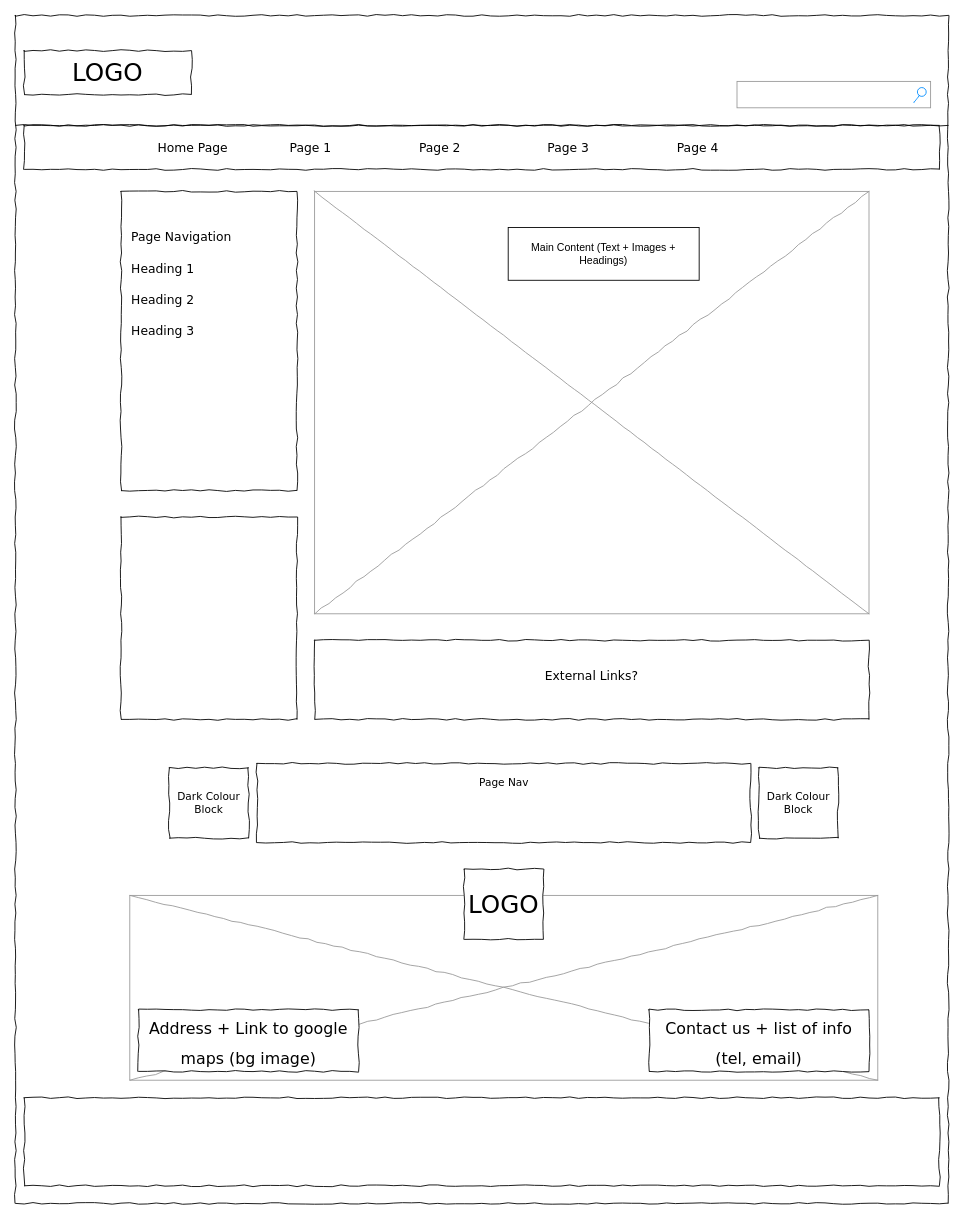
This 964x1219 diagram has some shape labels left out. Each missing label, with the box of its shape:
Contact Panel: (120, 516, 297, 719)
Footer: (23, 1097, 939, 1186)
Search: (736, 81, 931, 108)
